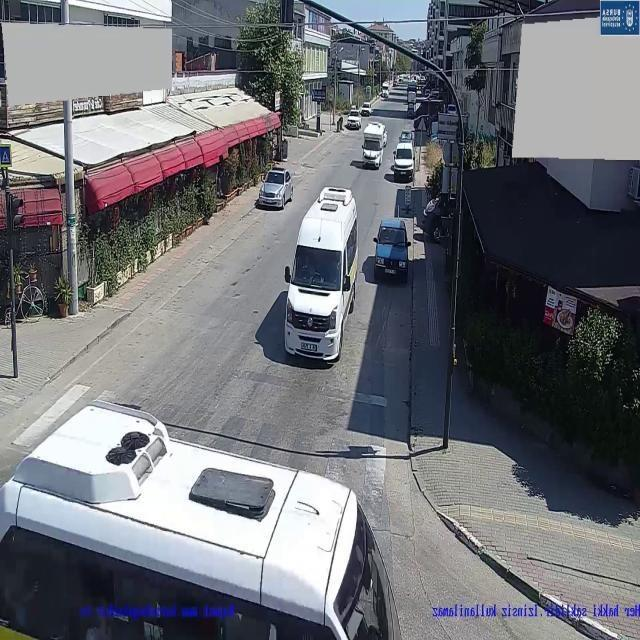Car: (373, 218, 411, 280), (256, 165, 295, 214), (392, 140, 415, 180), (346, 114, 362, 129), (399, 130, 413, 144), (360, 102, 372, 116), (349, 106, 360, 116), (429, 90, 440, 100), (447, 104, 457, 114), (380, 90, 389, 98)
Van: (0, 396, 418, 639), (270, 185, 368, 364), (362, 120, 388, 166)
